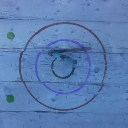Axe Tip: (54, 49, 67, 52)
